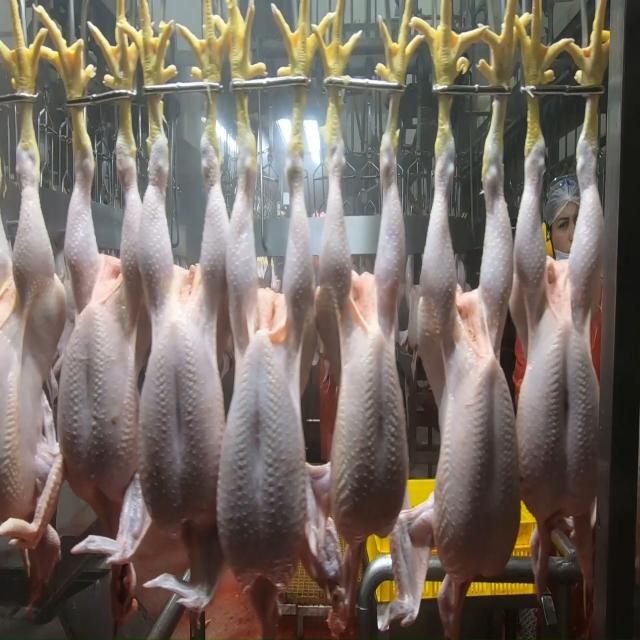chicken: (424, 117, 521, 581), (218, 147, 315, 595), (135, 118, 229, 533), (51, 141, 148, 540), (518, 116, 610, 524), (321, 134, 410, 540), (0, 131, 47, 551)
